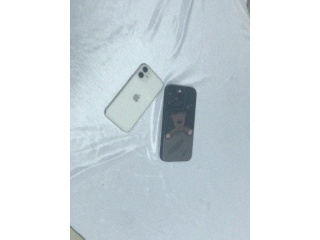phone: (103, 63, 164, 133), (159, 84, 197, 163)
